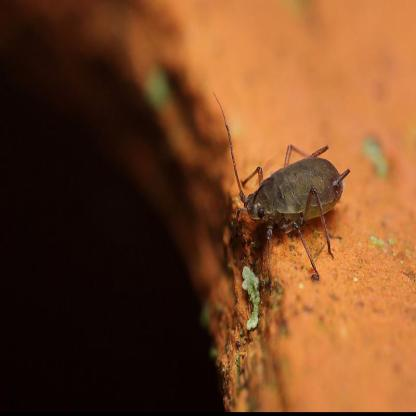aphid: (222, 130, 354, 274)
